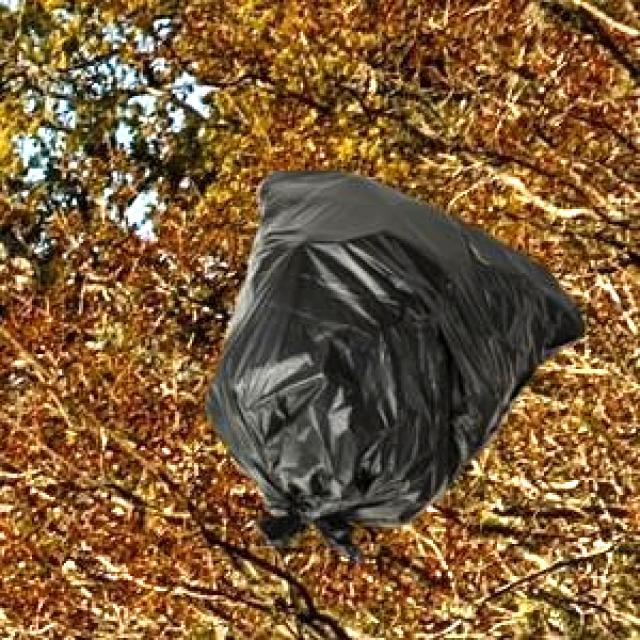Garbage_Bag: (204, 167, 584, 560)
